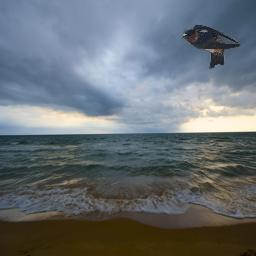Swallow: (181, 24, 241, 69)
